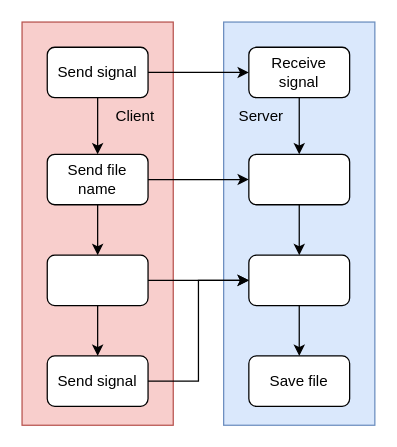
Some shapes in this 397 by 447 pixel diagram are drawn without their labels. Here are the shapes that lost their labels. From the top down, the box of each, then its label:
(248, 153, 350, 205): Receive file name
(46, 254, 148, 306): Send file content
(248, 254, 350, 306): Receive file content
